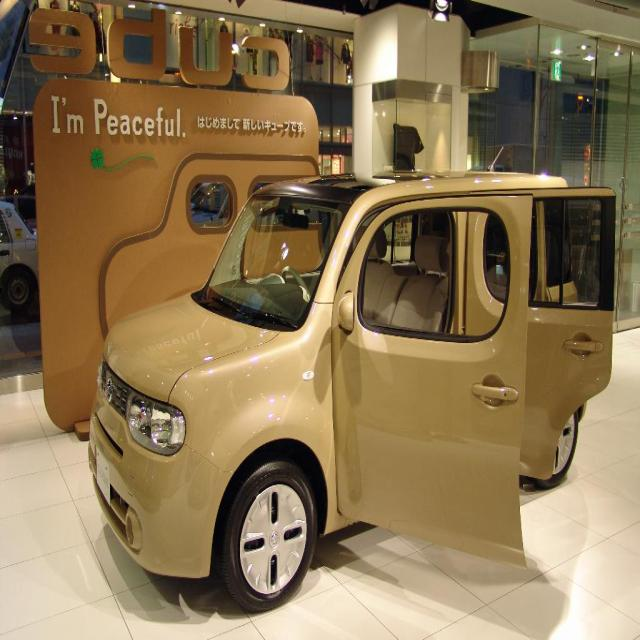car: (80, 142, 619, 619)
